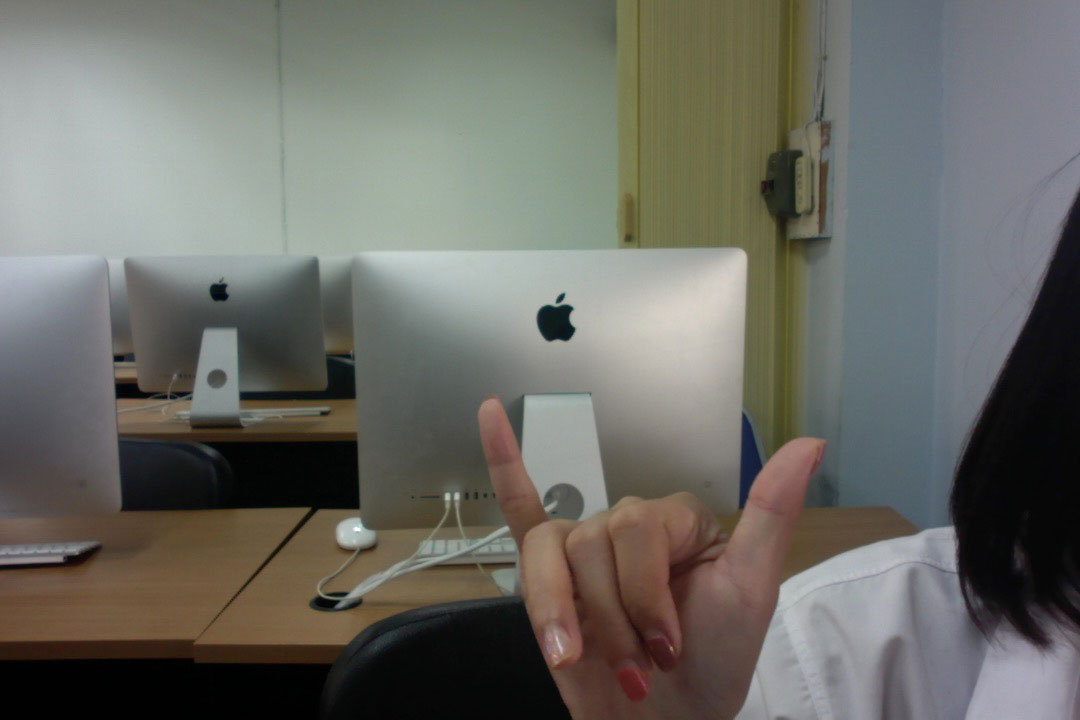yor: (467, 387, 836, 718)
